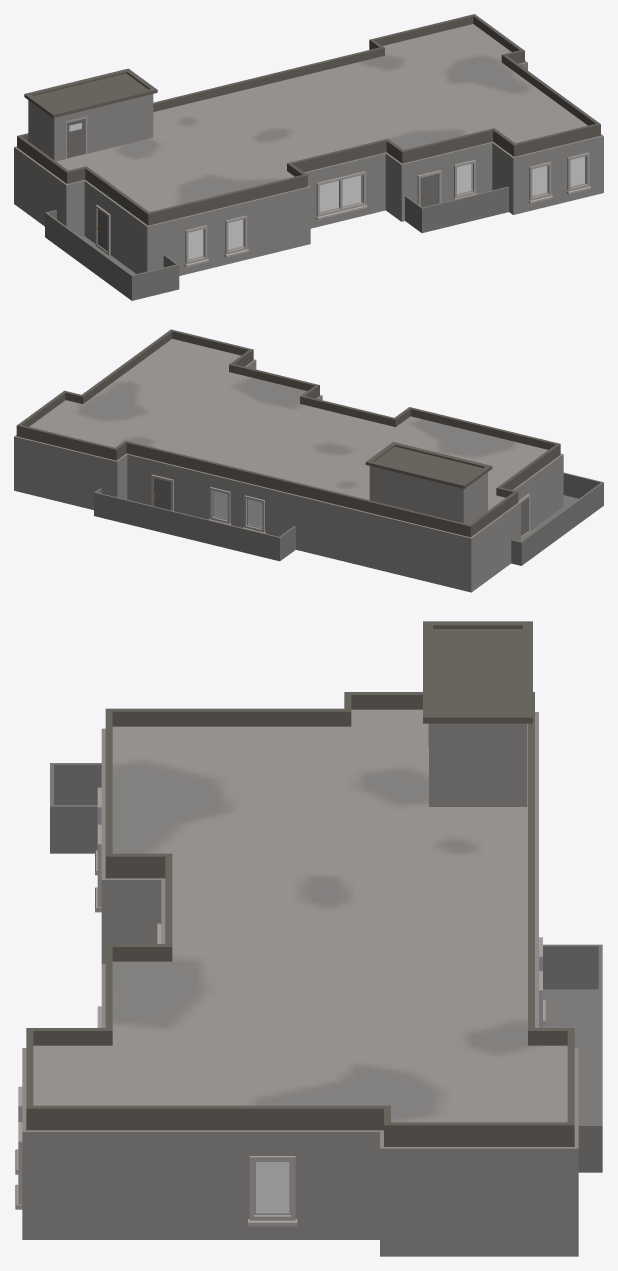
Rendered from SM_Bldg_City_Commercial_08_Roof.fbx.
3 views of the same model, one above another, from view 1: azimuth 30°, elevation 25°; view 2: azimuth 150°, elevation 25°; view 3: azimuth 270°, elevation 25° (orthographic). The views are drawn at different scales.
Parts seen in each view (by area): view 1: SM_Bldg_City_Commercial_08_Roof, SM_Bldg_City_Commercial_08_Roof_Glass; view 2: SM_Bldg_City_Commercial_08_Roof, SM_Bldg_City_Commercial_08_Roof_Glass; view 3: SM_Bldg_City_Commercial_08_Roof, SM_Bldg_City_Commercial_08_Roof_Glass.
Part boxes in pixels (left/top/right/bottom): SM_Bldg_City_Commercial_08_Roof: left=14, top=14, right=603, bottom=300; SM_Bldg_City_Commercial_08_Roof_Glass: left=188, top=156, right=584, bottom=259; SM_Bldg_City_Commercial_08_Roof: left=14, top=329, right=603, bottom=592; SM_Bldg_City_Commercial_08_Roof_Glass: left=214, top=491, right=262, bottom=527; SM_Bldg_City_Commercial_08_Roof: left=15, top=621, right=602, bottom=1256; SM_Bldg_City_Commercial_08_Roof_Glass: left=256, top=1162, right=289, bottom=1212.
Size of the model in its own units: 2660 by 574 by 1477.
